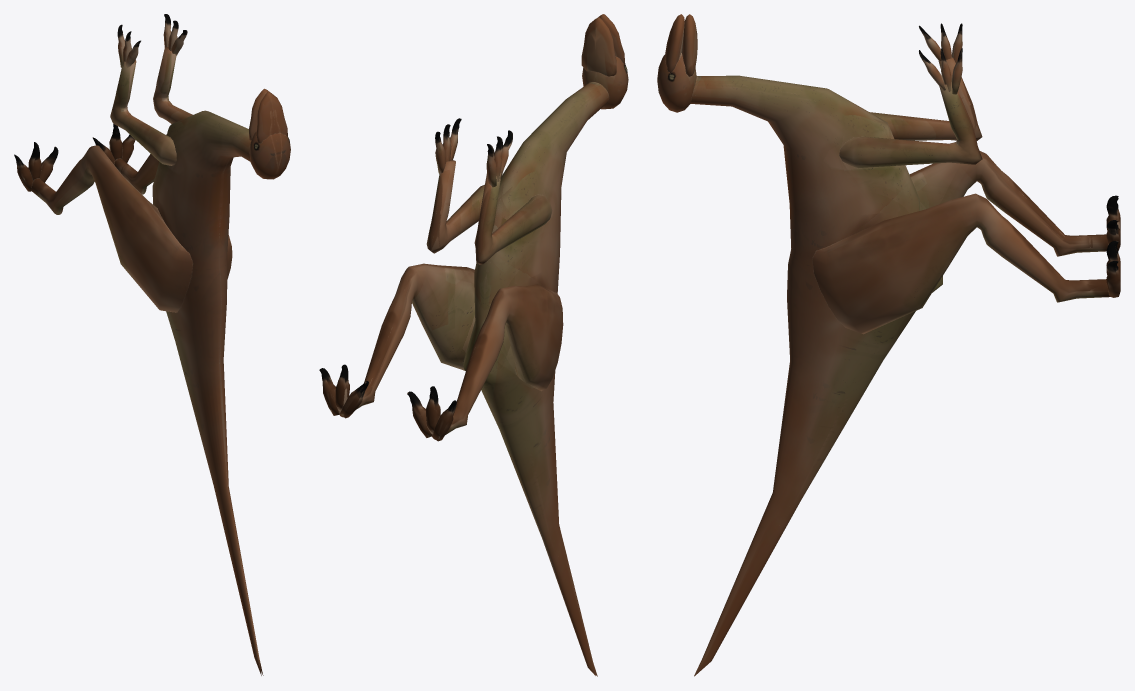
Rendered from dino_puppet.obj.
3 views of the same model, side by side, from view 1: azimuth 30°, elevation 25°; view 2: azimuth 150°, elevation 25°; view 3: azimuth 270°, elevation 25° (orthographic). The views are drawn at different scales.
Visible parts, largest first — view 1: Cylinder; view 2: Cylinder; view 3: Cylinder.
Boxes of the visible parts, left/top/right/bottom form: Cylinder: left=14, top=14, right=290, bottom=675; Cylinder: left=319, top=14, right=628, bottom=676; Cylinder: left=657, top=14, right=1120, bottom=676.
Bounding box in the file's own units: 45.22 × 212 × 134.
1 material, 1 textured.
